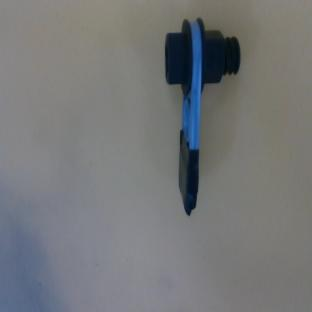part_1_bad: (165, 18, 239, 215)
